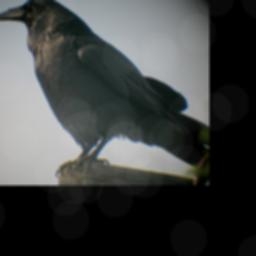Crow: (0, 0, 209, 178)
